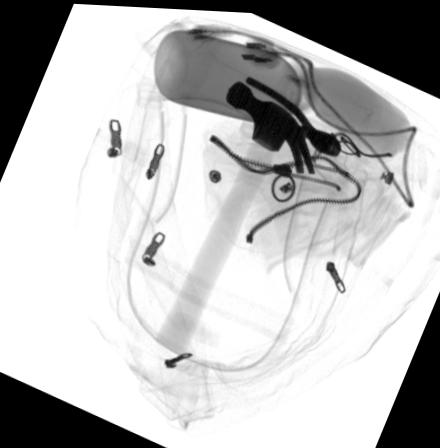Hammer: (155, 76, 315, 352)
Pliers: (228, 71, 341, 152)
